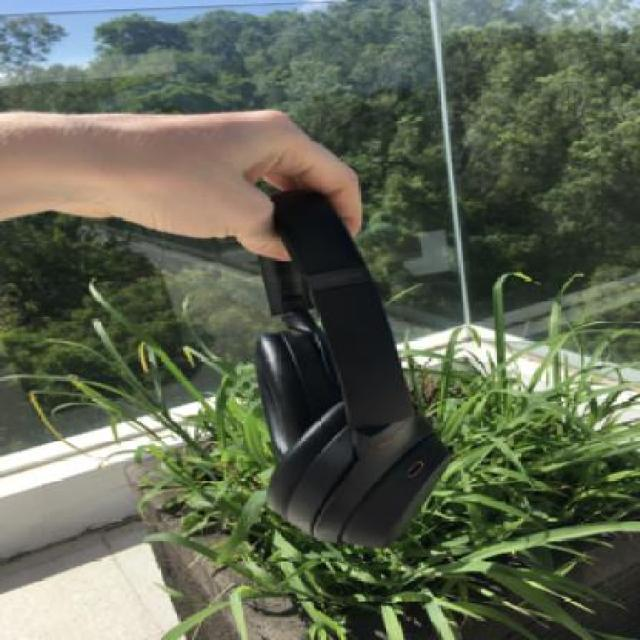earphone: (250, 170, 477, 555)
